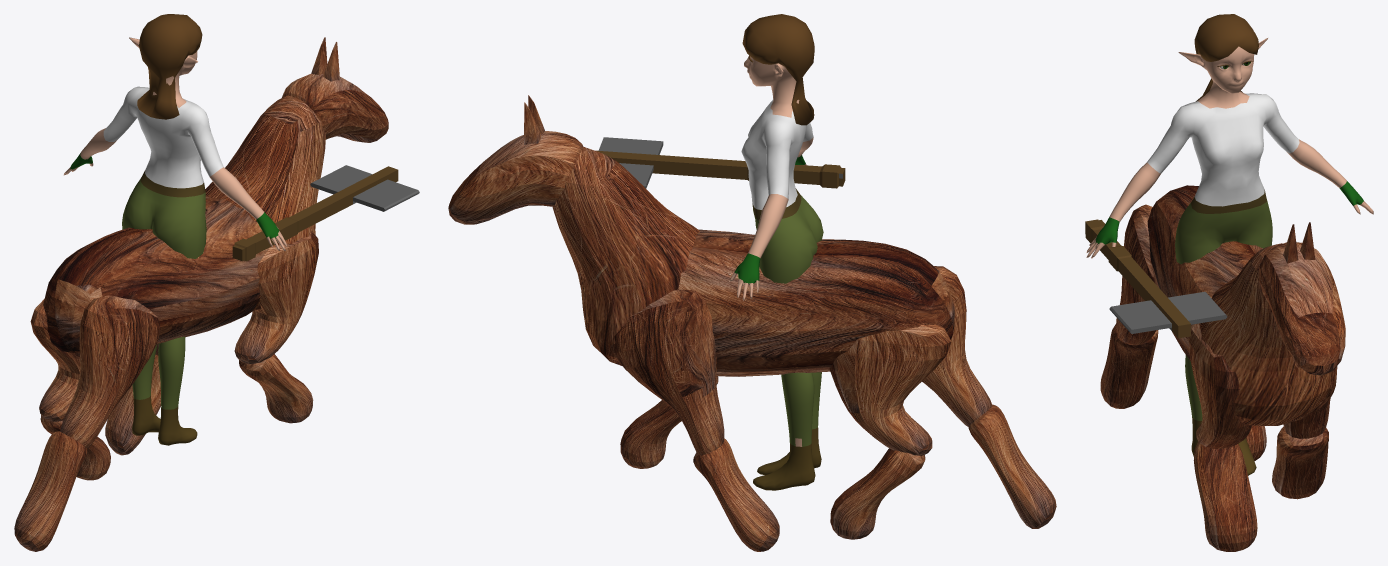
File: horseman_elf.glb
The picture shows the model from 3 angles, left to right: view 1: azimuth 30°, elevation 25°; view 2: azimuth 150°, elevation 25°; view 3: azimuth 270°, elevation 25°; orthographic projection. The views are drawn at different scales.
Visible parts, largest first — view 1: Cube.001, body_LP_Plane.008, Cube, Sphere.002_Sphere.001; view 2: Cube.001, body_LP_Plane.008, Cube, Sphere.002_Sphere.001; view 3: Cube.001, body_LP_Plane.008, Cube, Sphere.002_Sphere.001.
Part boxes in pixels (left/top/right/bottom): Cube.001: left=14, top=37, right=388, bottom=551; body_LP_Plane.008: left=63, top=37, right=287, bottom=445; Cube: left=232, top=165, right=419, bottom=261; Sphere.002_Sphere.001: left=137, top=14, right=202, bottom=119; Cube.001: left=448, top=95, right=1056, bottom=551; body_LP_Plane.008: left=729, top=55, right=823, bottom=490; Cube: left=595, top=137, right=845, bottom=188; Sphere.002_Sphere.001: left=742, top=14, right=814, bottom=125; Cube.001: left=1100, top=185, right=1345, bottom=551; body_LP_Plane.008: left=1086, top=38, right=1373, bottom=475; Cube: left=1085, top=219, right=1227, bottom=338; Sphere.002_Sphere.001: left=1194, top=14, right=1258, bottom=101.
Size of the model in its own units: 5.56 by 5.3 by 2.83.
Materials: 11 (3 with a texture image).
